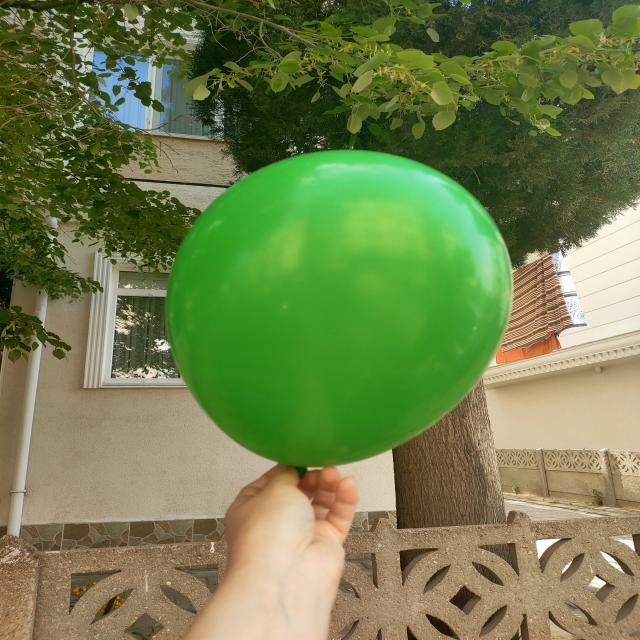green: (169, 150, 514, 470)
